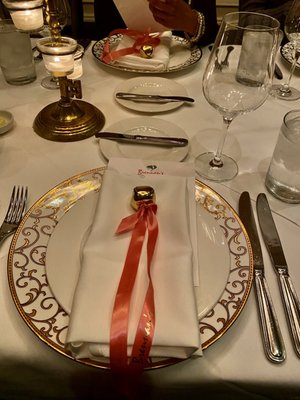sandwich: (256, 193, 300, 359), (243, 191, 285, 364), (97, 131, 188, 149)
